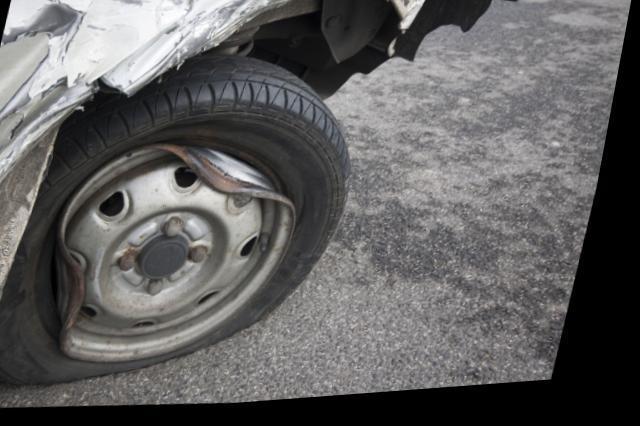dent: (0, 0, 301, 334)
tire flat: (0, 59, 361, 388)
